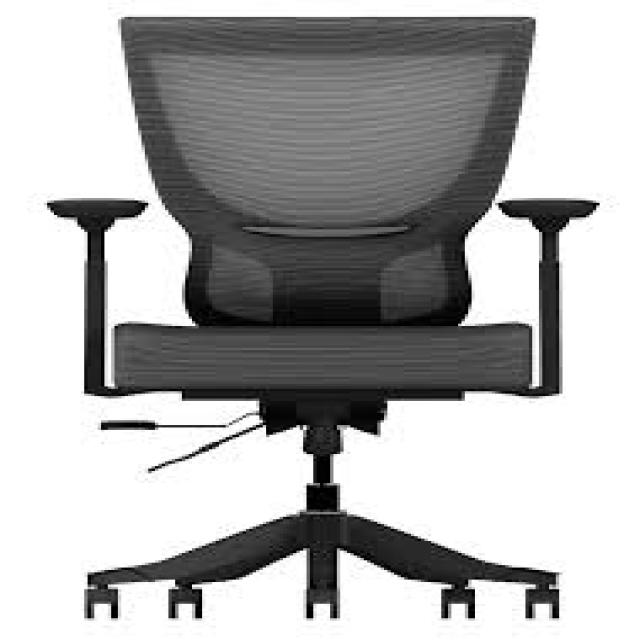obstacle: (15, 9, 585, 631)
